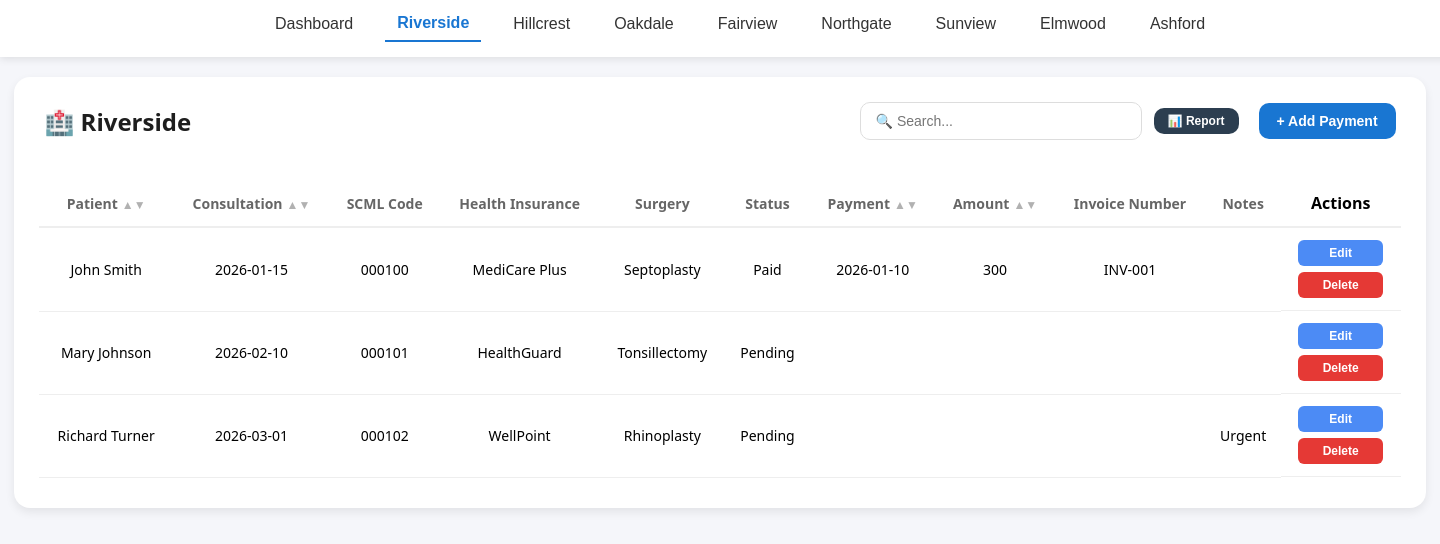
Test: Client CRUD - Riverside › should enter edit mode when clicking Edit on a row
expect the table with class "styled-table" is shown: met, box [39,180,1400,478]
Click the button "Edit" in the row of "John Smith".
click(1341, 253)  # box [1298,240,1383,266]
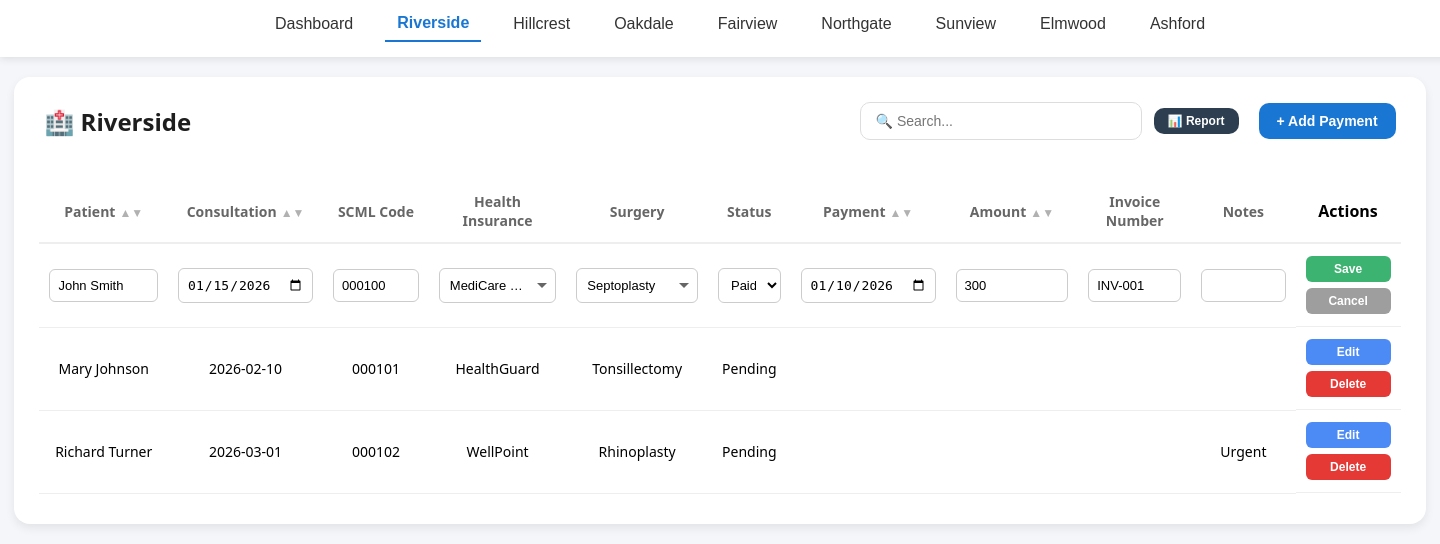
expect the 2nd field is shown: met, box [49,269,158,302]
expect the button "Save" is shown: met, box [1306,256,1391,282]
